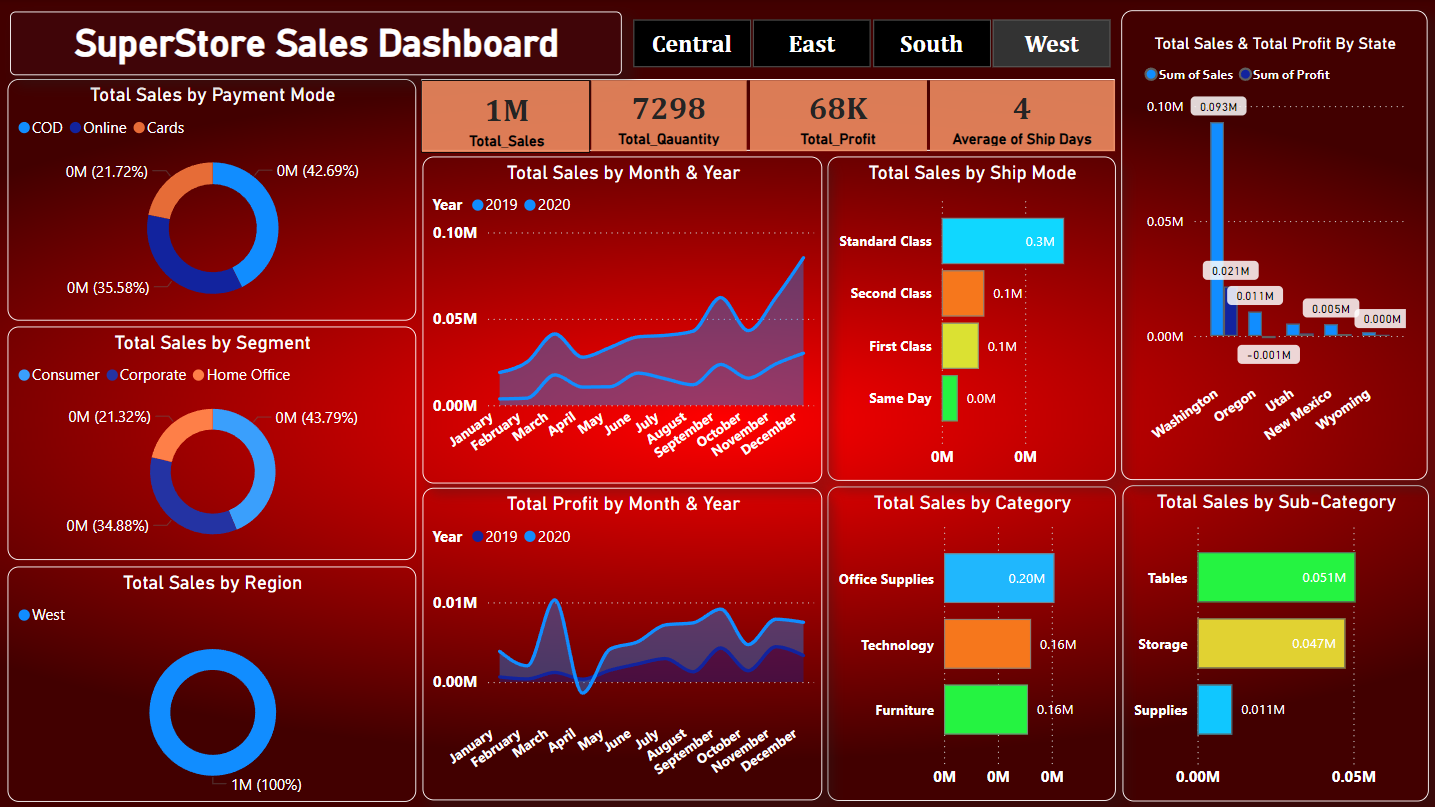

This screenshot's page, from the dashboard's own definition file:
{"tool":"powerbi","page":{"name":"Page 1","canvas":[1280,720],"ordinal":0},"visuals":[{"type":"shape","box":[375.5,71.2,617.6,64.1],"z":0},{"type":"barChart","title":"Total Sales by Category","fields":{"Category":["SuperStore_Sales_Dataset.Category"],"Y":["Sum(SuperStore_Sales_Dataset.Sales)"]},"box":[737.3,434.3,256.8,279.9],"z":1000},{"type":"barChart","title":"Total Sales by Ship Mode","fields":{"Y":["Sum(SuperStore_Sales_Dataset.Sales)"],"Category":["SuperStore_Sales_Dataset.Ship Mode"]},"box":[737.3,139.9,256.8,288.6],"z":2000},{"type":"barChart","title":"Total Sales by Sub-Category","fields":{"Y":["Sum(SuperStore_Sales_Dataset.Sales)"],"Category":["SuperStore_Sales_Dataset.Sub-Category"]},"box":[999.8,432.8,272.7,281.3],"z":3000},{"type":"stackedAreaChart","title":"Total Sales by Month & Year","fields":{"Y":["Sum(SuperStore_Sales_Dataset.Sales)"],"Category":["SuperStore_Sales_Dataset.Order Date.Variation.Date Hierarchy.Month","SuperStore_Sales_Dataset.Order Date.Variation.Date Hierarchy.Day"],"Series":["SuperStore_Sales_Dataset.Order Date.Variation.Date Hierarchy.Year"]},"box":[376.6,139.9,356.4,291.4],"z":4000},{"type":"lineClusteredColumnComboChart","title":"Total Sales & Total Profit By State","fields":{"Category":["SuperStore_Sales_Dataset.State"],"Y":["Sum(SuperStore_Sales_Dataset.Sales)","Sum(SuperStore_Sales_Dataset.Profit)"]},"box":[998.4,10.1,272.7,418.4],"z":5000},{"type":"donutChart","title":"Total Sales by Segment","fields":{"Category":["SuperStore_Sales_Dataset.Segment"],"Y":["Sum(SuperStore_Sales_Dataset.Sales)"]},"box":[7.2,291.4,364,207.8],"z":6000},{"type":"donutChart","title":"Total Sales by Payment Mode","fields":{"Y":["Sum(SuperStore_Sales_Dataset.Sales)"],"Category":["SuperStore_Sales_Dataset.Payment Mode"]},"box":[7,70.7,364,215],"z":7000},{"type":"donutChart","title":"Total Sales by Region","fields":{"Y":["Sum(SuperStore_Sales_Dataset.Sales)"],"Category":["SuperStore_Sales_Dataset.Region"]},"box":[7.2,505,364,209.2],"z":8000},{"type":"textbox","box":[8.9,10.7,544.6,57],"z":9000},{"type":"slicer","fields":{"Values":["SuperStore_Sales_Dataset.Region"]},"box":[537.5,10.7,475.2,57],"z":10000},{"type":"card","fields":{"Values":["Sum(SuperStore_Sales_Dataset.Sales)"]},"box":[375.1,72.1,150,64.9],"z":11000},{"type":"card","fields":{"Values":["Sum(SuperStore_Sales_Dataset.Quantity)"]},"box":[526.6,72.1,138.5,63.5],"z":12000},{"type":"card","fields":{"Values":["Sum(SuperStore_Sales_Dataset.Profit)"]},"box":[668,72.1,157.3,63.5],"z":13000},{"type":"card","fields":{"Values":["Avg(SuperStore_Sales_Dataset.Ship Days)"]},"box":[828.1,72.1,164.5,63.5],"z":14000},{"type":"stackedAreaChart","title":"Total Profit by Month & Year","fields":{"Category":["SuperStore_Sales_Dataset.Order Date.Variation.Date Hierarchy.Month","SuperStore_Sales_Dataset.Order Date.Variation.Date Hierarchy.Day"],"Series":["SuperStore_Sales_Dataset.Order Date.Variation.Date Hierarchy.Year"],"Y":["Sum(SuperStore_Sales_Dataset.Profit)"]},"box":[376.6,435.7,356.4,278.5],"z":15000}]}

Visuals, with their boxes in screenshot pixels (x1, y1, x2, y2), scaled from the page's 1280x720 canvas onto the 1435x807 screenshot:
shape: l=421, t=80, r=1113, b=152
"Total Sales by Category" barChart: l=827, t=487, r=1114, b=800
"Total Sales by Ship Mode" barChart: l=827, t=157, r=1114, b=480
"Total Sales by Sub-Category" barChart: l=1121, t=485, r=1427, b=800
"Total Sales by Month & Year" stackedAreaChart: l=422, t=157, r=822, b=483
"Total Sales & Total Profit By State" lineClusteredColumnComboChart: l=1119, t=11, r=1425, b=480
"Total Sales by Segment" donutChart: l=8, t=327, r=416, b=560
"Total Sales by Payment Mode" donutChart: l=8, t=79, r=416, b=320
"Total Sales by Region" donutChart: l=8, t=566, r=416, b=800
textbox: l=10, t=12, r=621, b=76
slicer - SuperStore_Sales_Dataset.Region: l=603, t=12, r=1135, b=76
card - Sum(SuperStore_Sales_Dataset.Sales): l=421, t=81, r=589, b=154
card - Sum(SuperStore_Sales_Dataset.Quantity): l=590, t=81, r=746, b=152
card - Sum(SuperStore_Sales_Dataset.Profit): l=749, t=81, r=925, b=152
card - Avg(SuperStore_Sales_Dataset.Ship Days): l=928, t=81, r=1113, b=152
"Total Profit by Month & Year" stackedAreaChart: l=422, t=488, r=822, b=800
